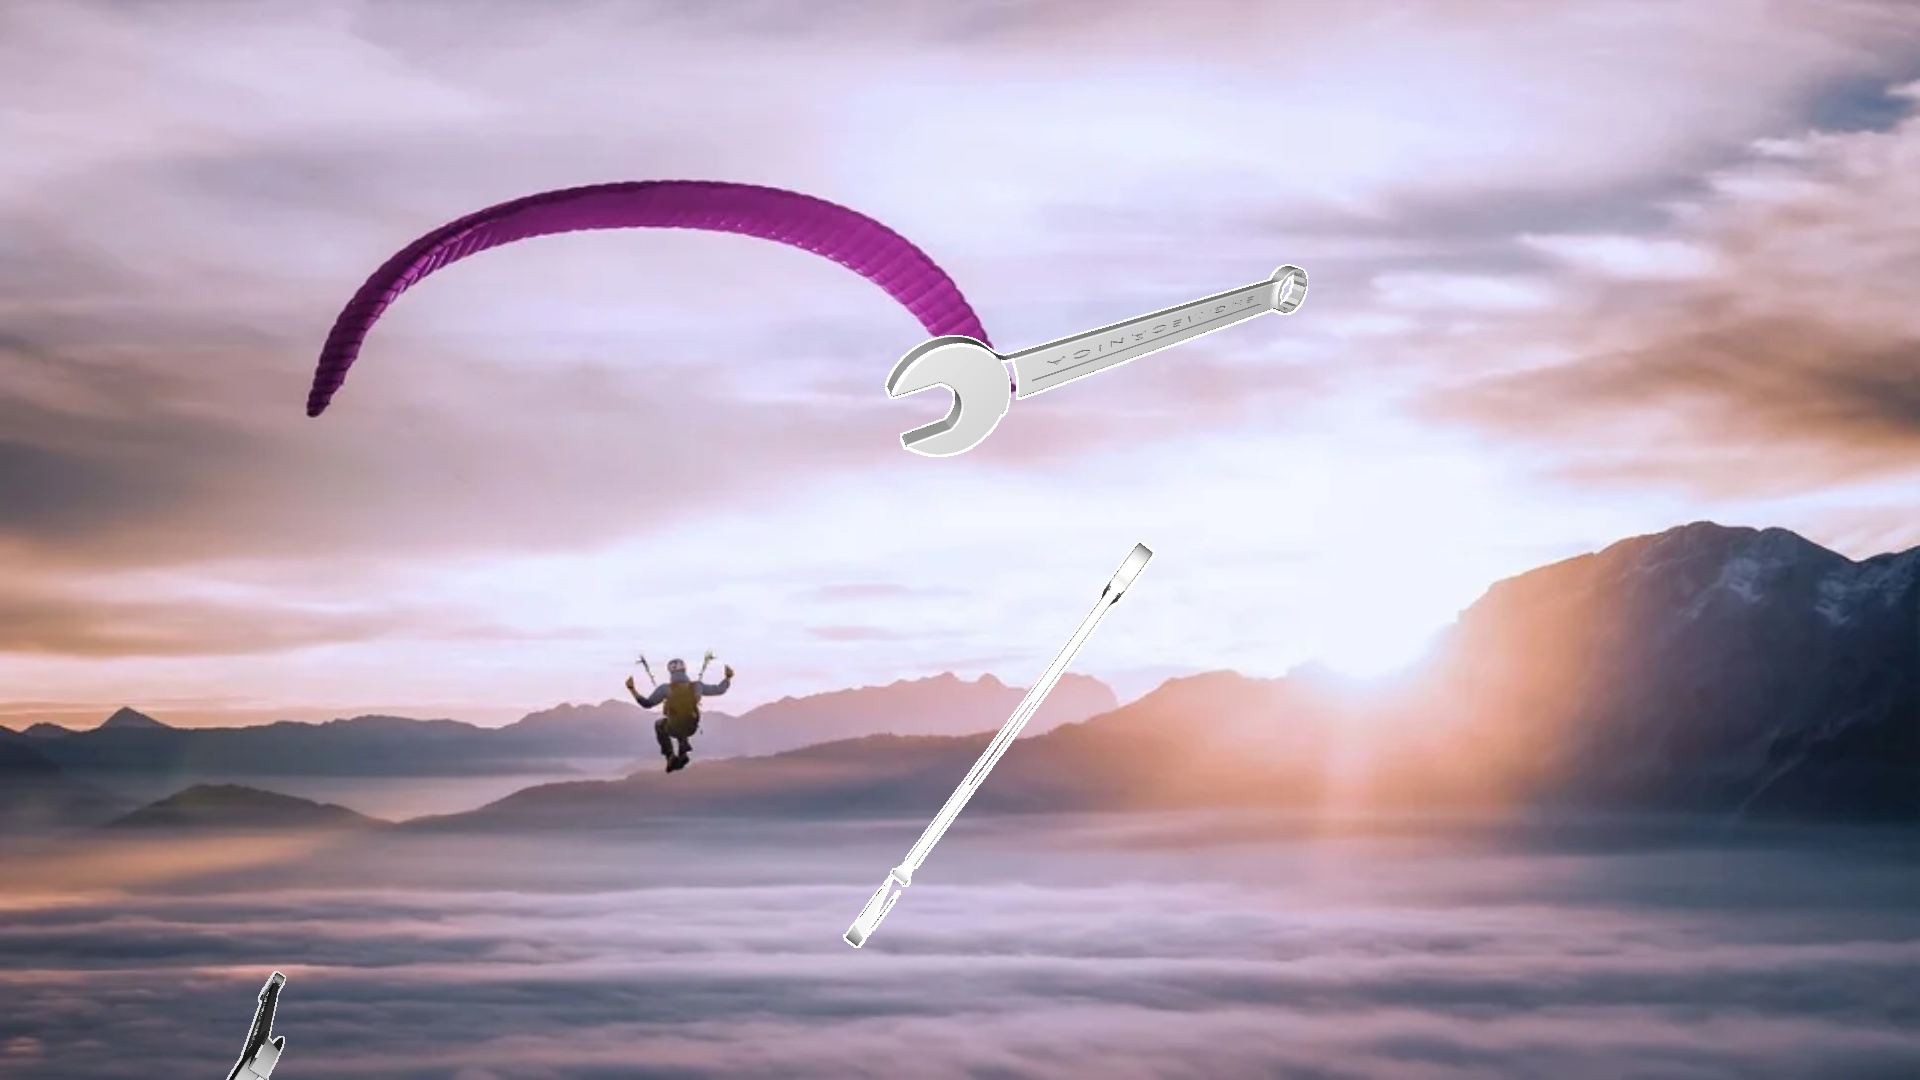Mixed Key: (843, 542, 1154, 947), (885, 264, 1307, 456), (225, 971, 285, 1079)
